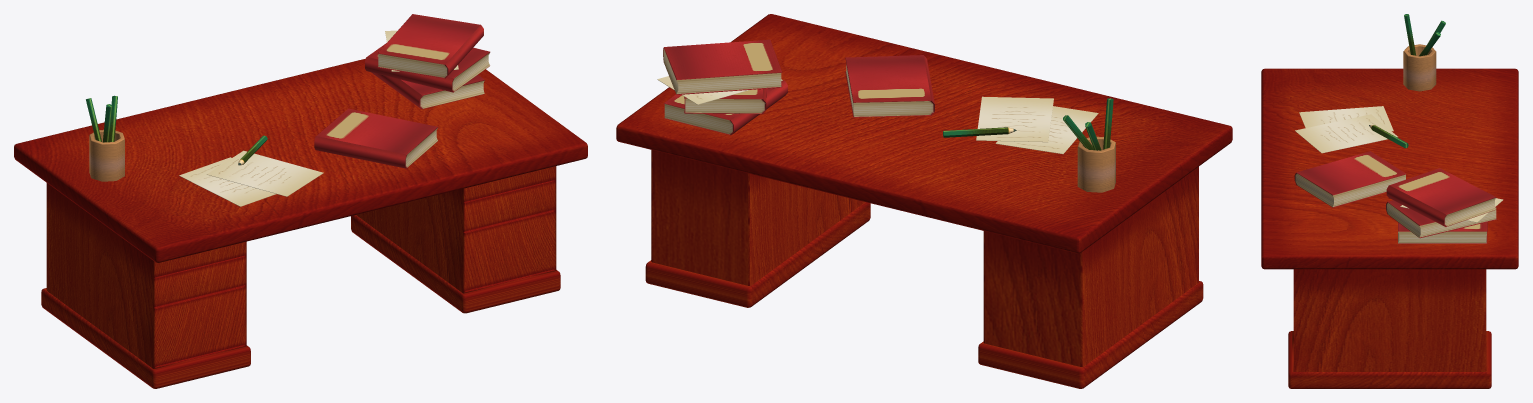
Rendered from counterdesk.fbx.
3 renders of one model, left to right at view 1: azimuth 30°, elevation 25°; view 2: azimuth 150°, elevation 25°; view 3: azimuth 270°, elevation 25°, orthographic. The views are drawn at different scales.
Parts seen in each view (by area): view 1: counterdesk1, book1, paper1, pencilstand1, pencil1; view 2: counterdesk1, book1, paper1, pencilstand1, pencil1; view 3: counterdesk1, book1, paper1, pencilstand1, pencil1.
Boxes of the visible parts, x1,y1,x2,y2 form: counterdesk1: [14, 58, 587, 388]; book1: [314, 14, 490, 168]; paper1: [179, 30, 458, 206]; pencilstand1: [89, 129, 124, 181]; pencil1: [86, 95, 267, 165]; counterdesk1: [616, 14, 1232, 388]; book1: [663, 39, 934, 135]; paper1: [657, 76, 1098, 154]; pencilstand1: [1077, 136, 1115, 192]; pencil1: [943, 98, 1113, 150]; counterdesk1: [1261, 68, 1518, 388]; book1: [1294, 151, 1496, 243]; paper1: [1295, 106, 1503, 222]; pencilstand1: [1403, 44, 1436, 91]; pencil1: [1369, 14, 1445, 148].
Bounding box in the file's own units: 27.1 × 13.88 × 15.62.
5 materials, 5 textured.
